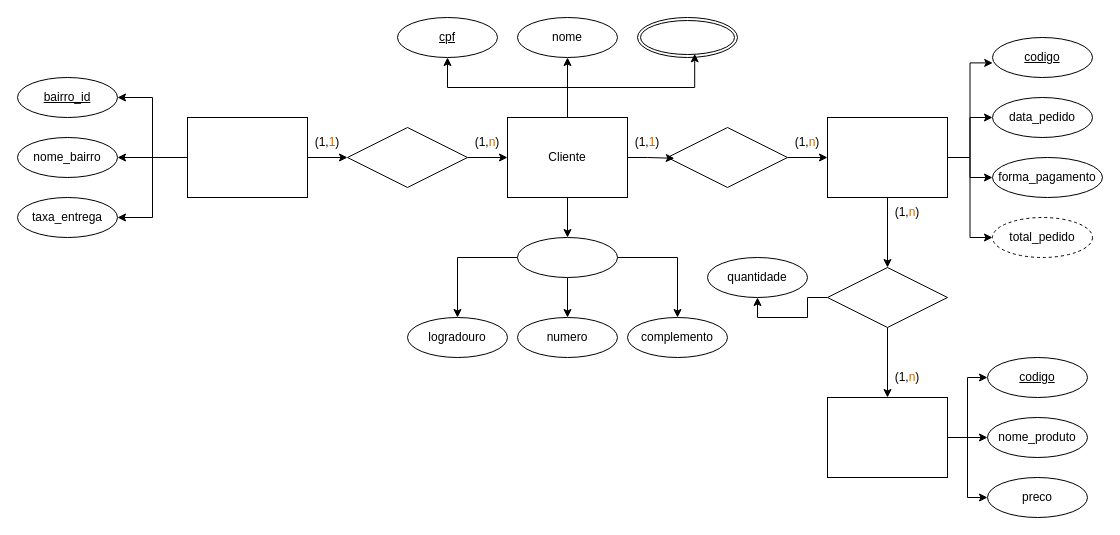
Image size: 1120x535. Some labels were removed from this diagram. The shapes that lost their labels are listed below. From the top down, each one's box as (x1, y1, x2, y2) in pixels, then its label:
(636, 16, 738, 58): telefone
(186, 116, 308, 198): Bairro
(346, 126, 468, 188): mora
(666, 126, 788, 188): faz
(826, 116, 948, 198): Pedido
(516, 236, 618, 278): enderco
(826, 266, 948, 328): contém
(826, 396, 948, 478): Produto
